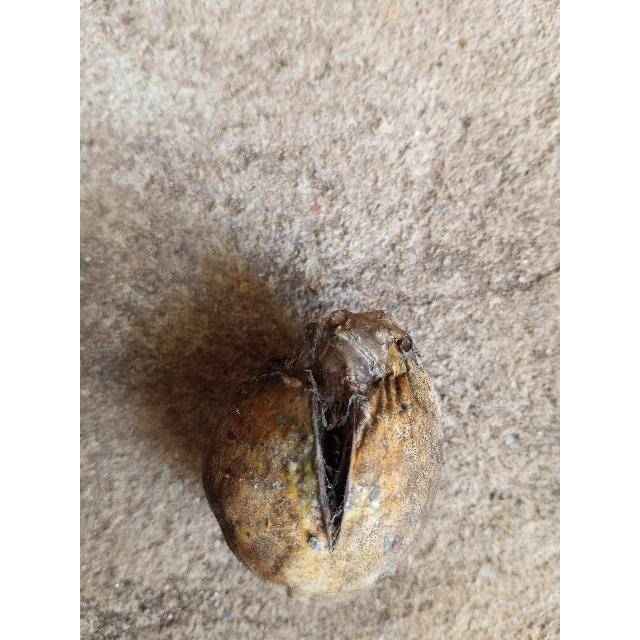damaged: (201, 310, 444, 605)
